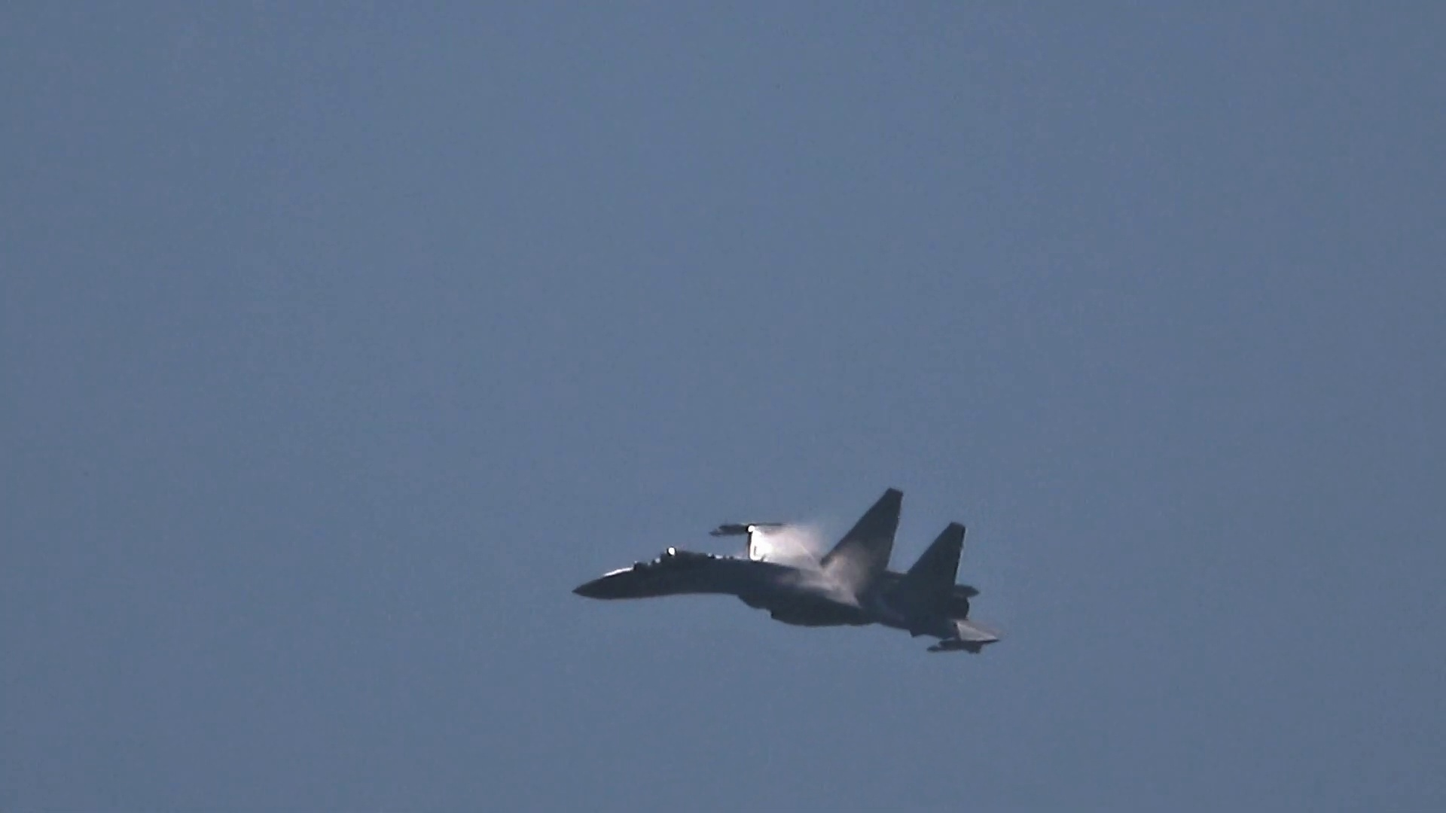Su35: (571, 487, 1004, 654)
